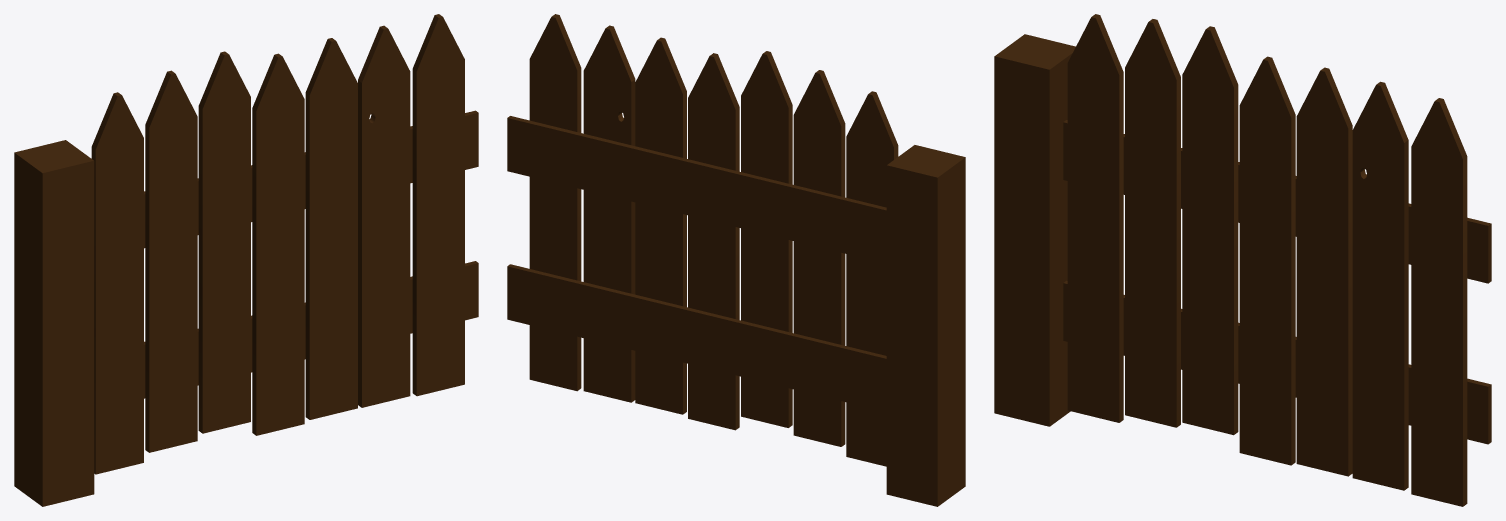
Rendered from Fence_LeftEndPiece.fbx.
3 renders of one model, left to right at view 1: azimuth 30°, elevation 25°; view 2: azimuth 150°, elevation 25°; view 3: azimuth 330°, elevation 25°, orthographic. The views are drawn at different scales.
Parts seen in each view (by area): view 1: Box078; view 2: Box078; view 3: Box078.
Part boxes in pixels (box(x1,y1,x2,y2)): Box078: box(14, 14, 478, 506); Box078: box(507, 14, 965, 506); Box078: box(994, 14, 1491, 506).
Bounding box in the file's own units: 113 × 95.99 × 12.35.
